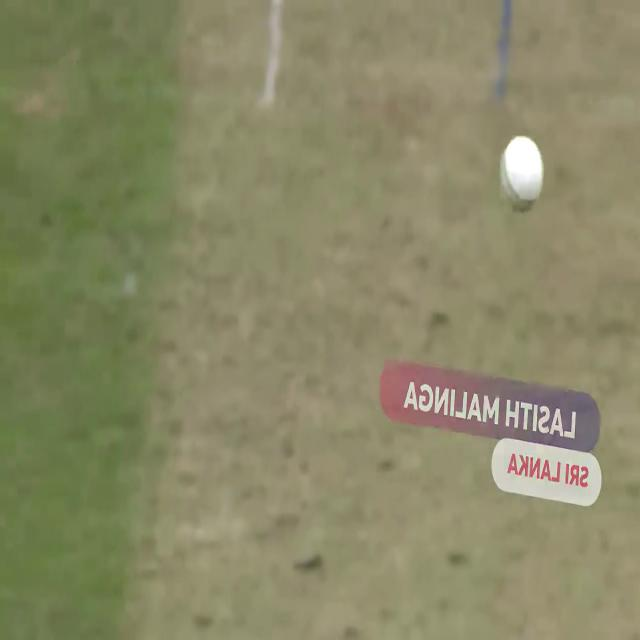ball: (494, 128, 550, 220)
